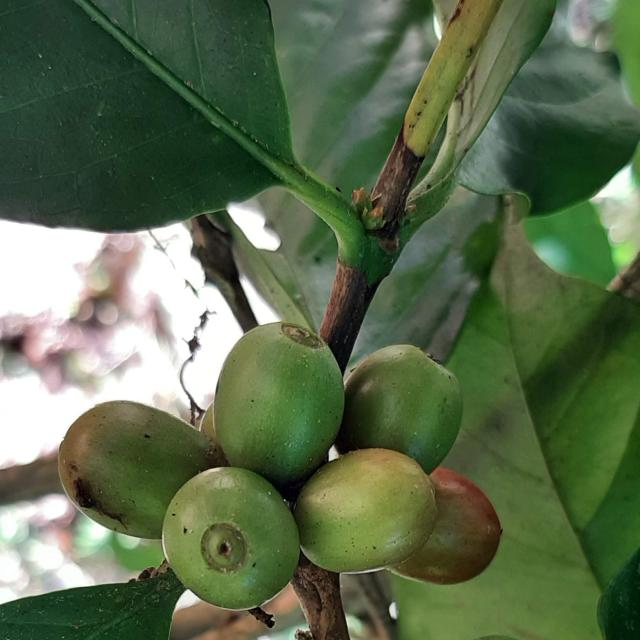green: (57, 402, 216, 540), (214, 323, 344, 489), (162, 468, 300, 610), (294, 449, 437, 574), (336, 345, 463, 474)
yellow: (391, 468, 503, 585)
